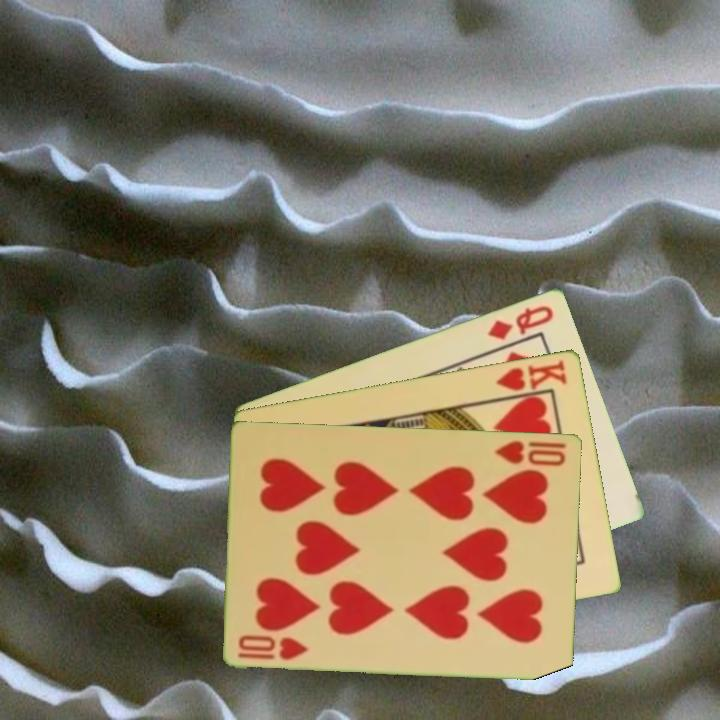10h: (492, 436, 569, 469), (235, 631, 311, 663)
Kh: (491, 356, 570, 401)
Qd: (484, 301, 557, 342)
